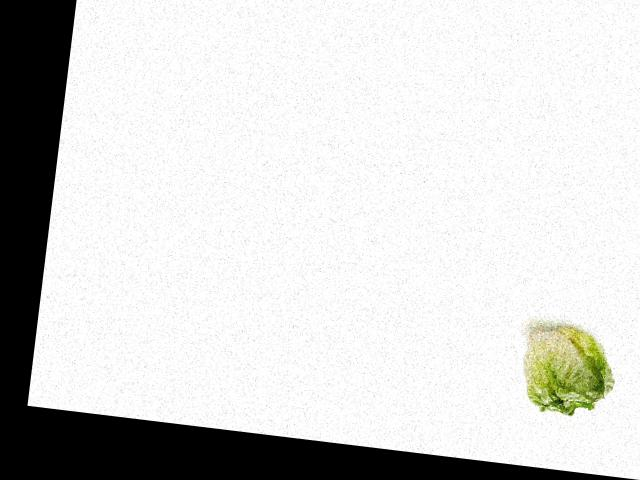lettuce: (511, 323, 625, 424)
